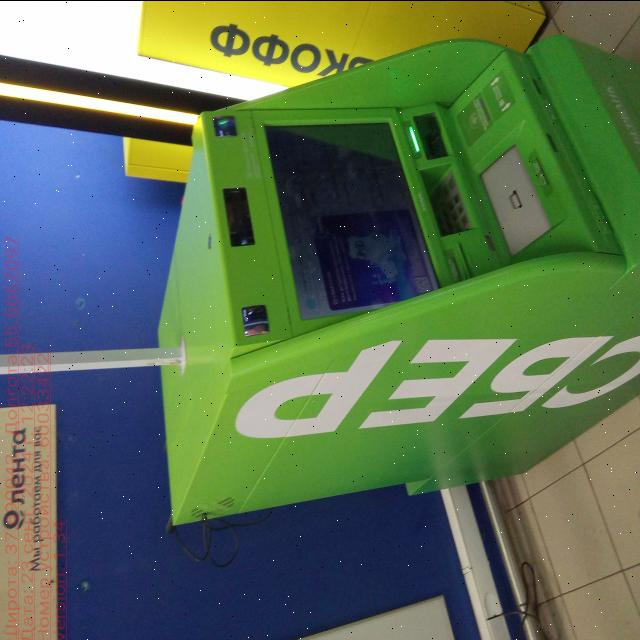bank: (154, 32, 640, 527)
